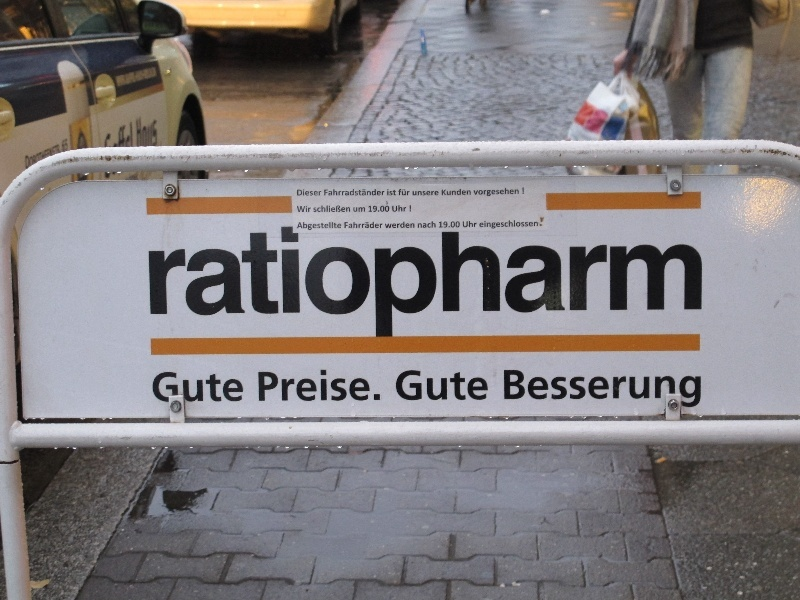text: (161, 226, 176, 339), (177, 226, 192, 339), (193, 226, 208, 339), (209, 226, 224, 339), (225, 226, 240, 339), (241, 226, 256, 339), (257, 226, 272, 339), (273, 226, 288, 339), (289, 226, 304, 339), (305, 226, 320, 339), (321, 226, 336, 339), (337, 226, 352, 339), (353, 226, 368, 339), (369, 226, 384, 339), (385, 226, 400, 339), (401, 226, 416, 339), (417, 226, 432, 339), (433, 226, 448, 339), (449, 226, 464, 339), (465, 226, 480, 339), (481, 226, 496, 339), (497, 226, 512, 339), (513, 226, 528, 339), (529, 226, 544, 339), (545, 226, 560, 339), (561, 226, 576, 339), (577, 226, 592, 339), (593, 226, 608, 339), (609, 226, 624, 339), (625, 226, 640, 339), (641, 226, 656, 339), (657, 226, 672, 339), (673, 226, 688, 339), (689, 226, 702, 339), (148, 226, 160, 339), (513, 370, 528, 409), (529, 370, 544, 409), (545, 370, 560, 409), (561, 370, 576, 409), (577, 370, 592, 409), (593, 370, 608, 409), (609, 370, 624, 409), (625, 370, 640, 409), (641, 370, 656, 409), (657, 370, 672, 409), (673, 370, 688, 409), (273, 368, 288, 402), (289, 368, 304, 402), (305, 368, 320, 402), (321, 368, 336, 402), (337, 368, 352, 402), (353, 368, 368, 402), (689, 370, 702, 409), (401, 370, 416, 402), (417, 370, 432, 402), (433, 370, 448, 402), (449, 370, 464, 402), (465, 370, 480, 402), (161, 371, 176, 403), (177, 371, 192, 403), (193, 371, 208, 403), (209, 371, 224, 403), (225, 371, 240, 403), (258, 368, 272, 402), (145, 113, 159, 147), (33, 138, 48, 169), (49, 138, 64, 169), (369, 368, 381, 402), (113, 121, 128, 147), (129, 67, 144, 88), (504, 370, 512, 409), (136, 113, 144, 147), (481, 370, 489, 402), (152, 371, 160, 403), (116, 67, 128, 88), (145, 67, 157, 88), (25, 138, 32, 169), (481, 217, 496, 230), (497, 217, 512, 230), (513, 217, 528, 230), (529, 217, 544, 230), (106, 121, 112, 147), (481, 188, 496, 198), (497, 188, 512, 198), (305, 222, 320, 231), (321, 222, 336, 231), (396, 370, 400, 402), (241, 371, 245, 403), (353, 221, 368, 229), (321, 205, 336, 213), (369, 221, 383, 229), (337, 205, 351, 213), (369, 189, 385, 196), (513, 188, 524, 198), (385, 222, 400, 229), (449, 189, 464, 196), (337, 189, 352, 196), (353, 189, 368, 196), (129, 121, 133, 147), (401, 222, 415, 229), (65, 138, 68, 169), (369, 206, 384, 212), (417, 191, 432, 197), (305, 190, 320, 196), (465, 221, 477, 228), (418, 222, 432, 228), (388, 189, 400, 196), (324, 189, 336, 196), (449, 221, 460, 228), (354, 207, 368, 212), (401, 205, 411, 212), (473, 188, 480, 198), (439, 221, 448, 228), (345, 221, 352, 229), (392, 205, 400, 212), (297, 206, 304, 213), (305, 206, 312, 213), (465, 189, 472, 196), (314, 205, 320, 213), (299, 222, 304, 231), (337, 222, 342, 231), (442, 189, 448, 196), (297, 190, 304, 196), (433, 191, 439, 197), (385, 206, 390, 212), (433, 222, 436, 228), (413, 191, 416, 197), (479, 217, 480, 230), (463, 221, 464, 228), (321, 190, 322, 196)
